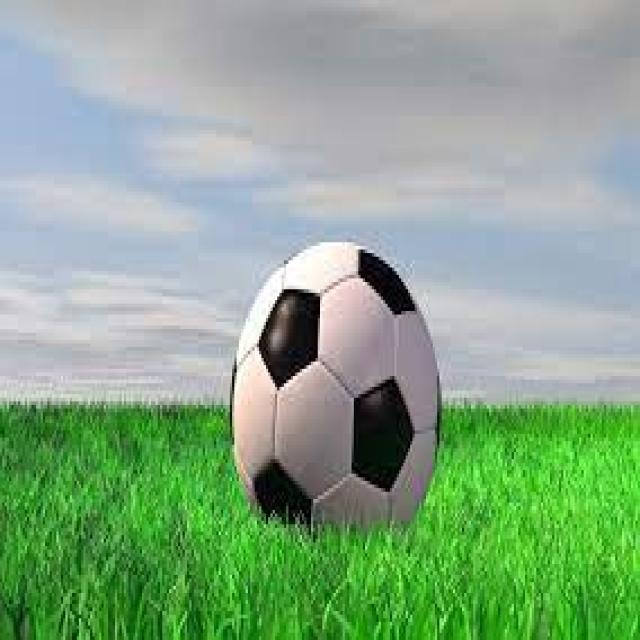ball: (231, 242, 441, 538)
